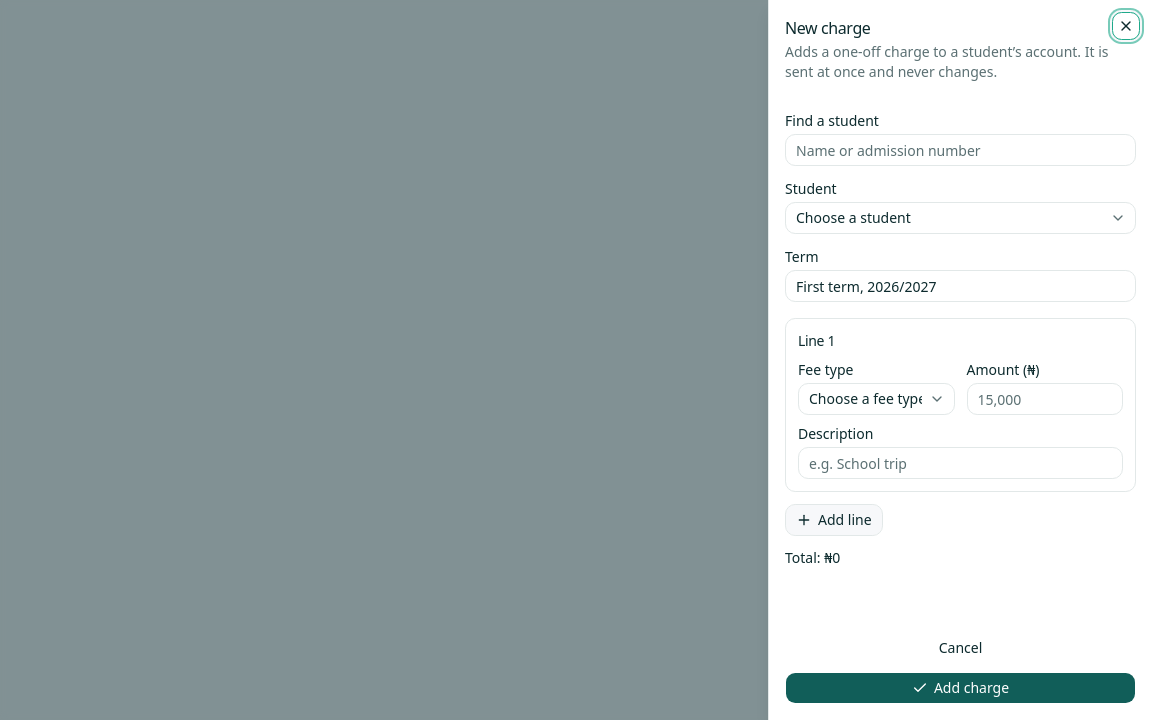
Test: NewChargeSheet › shows what is missing and sends nothing
This screenshot has width=1152, height=720.
Step 1. Click the button "Add charge" → [960, 688], box [785,672,1136,704]
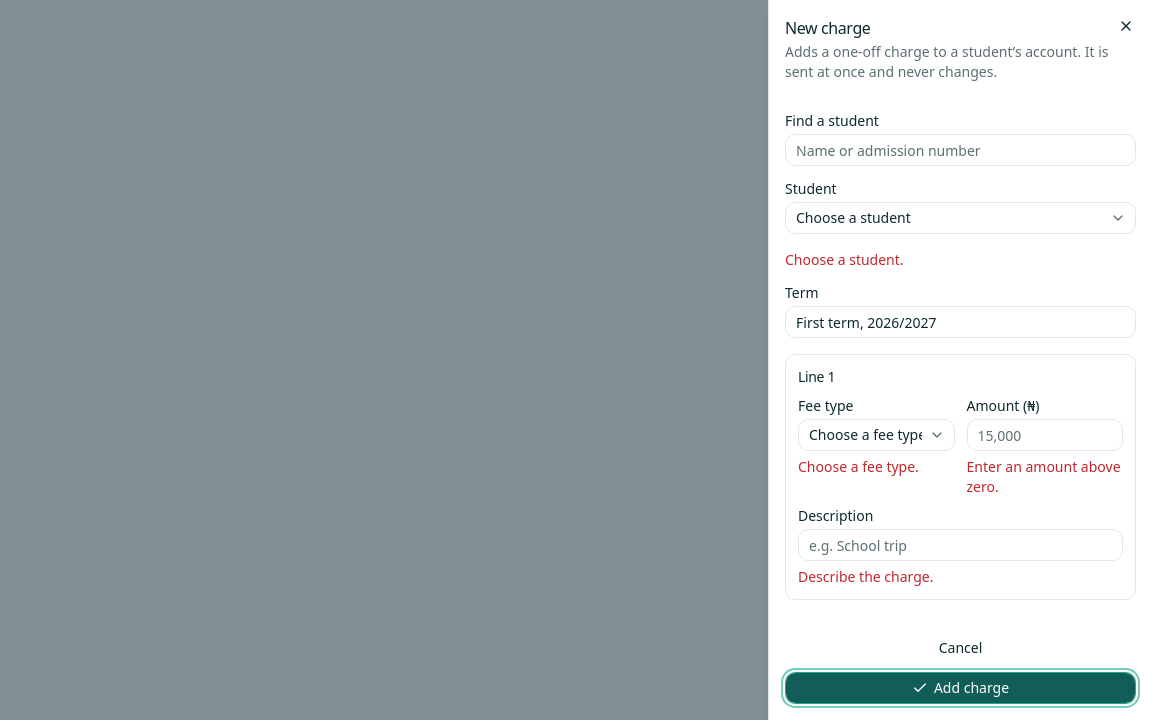
Check: the text "Choose a student." is shown, box [785,250,904,269]
Check: the text "Choose a fee type." is shown, box [798,457,919,476]
Check: the text "Describe the charge." is shown, box [798,567,934,586]
